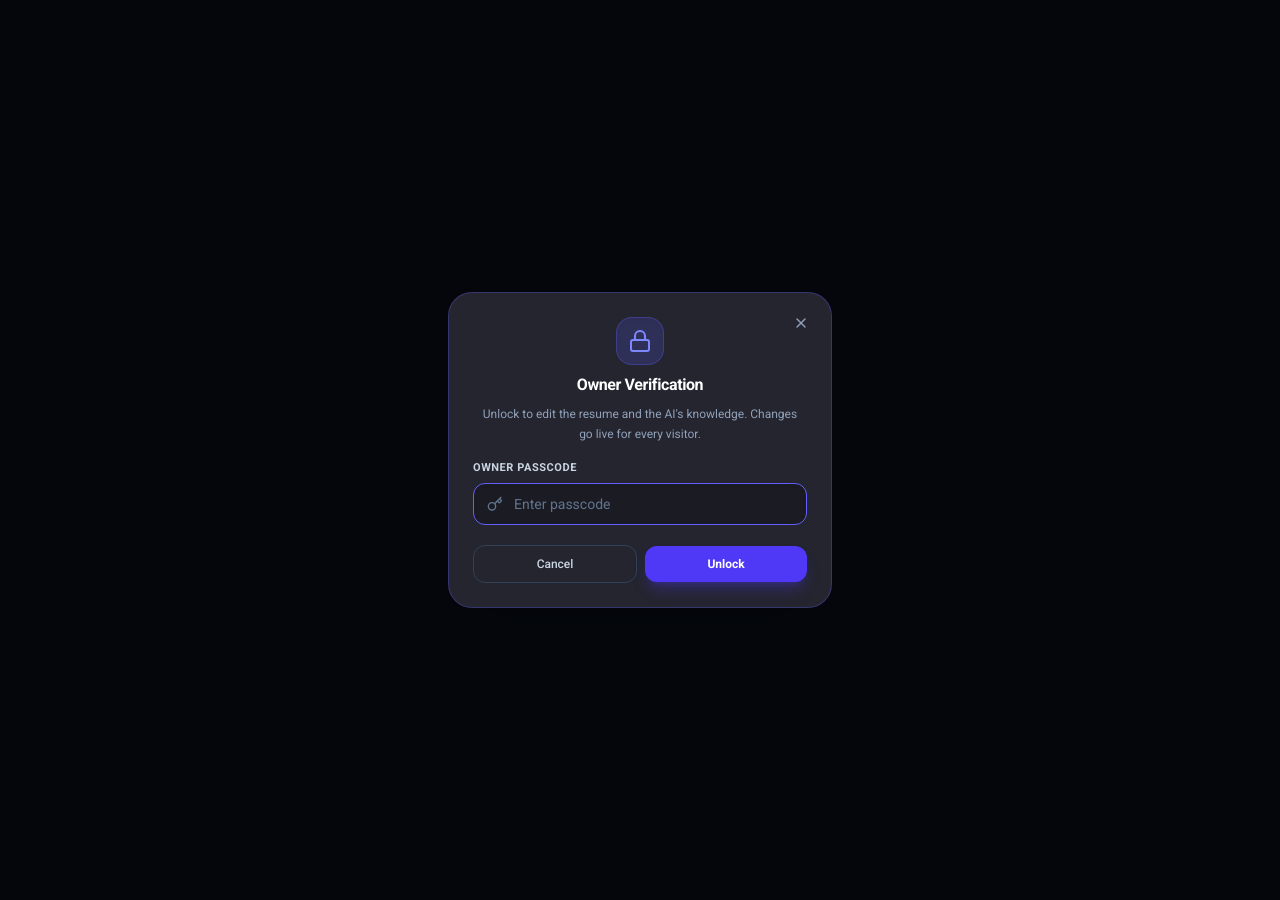
Test: AdminAuthModal Component › shows the server error on an incorrect passcode
Type "wrongpass" into the password field with placeholder "Enter passcode" at (640, 504), box [473, 483, 807, 525]
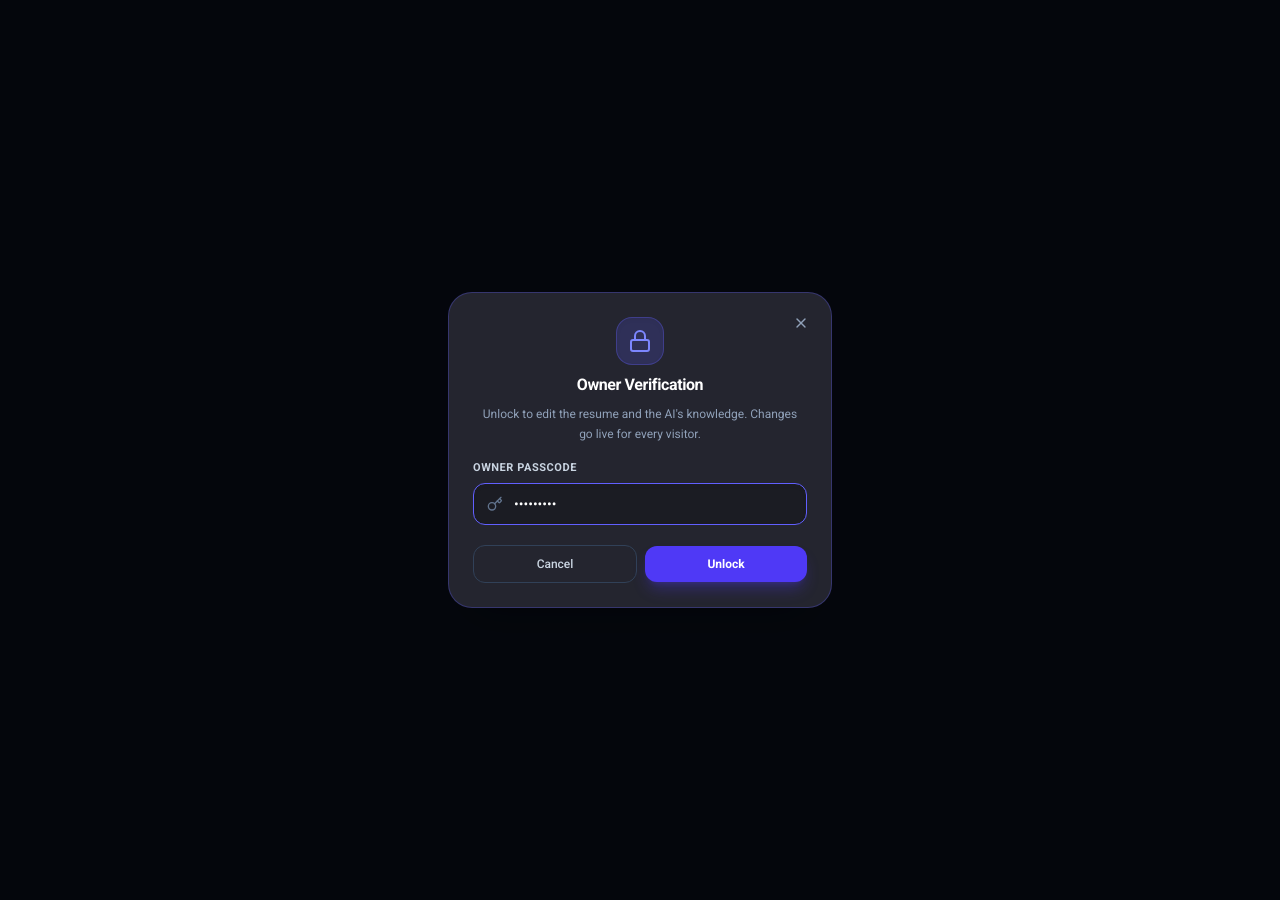
Click the button "Unlock" at (726, 564), box [645, 546, 807, 582]
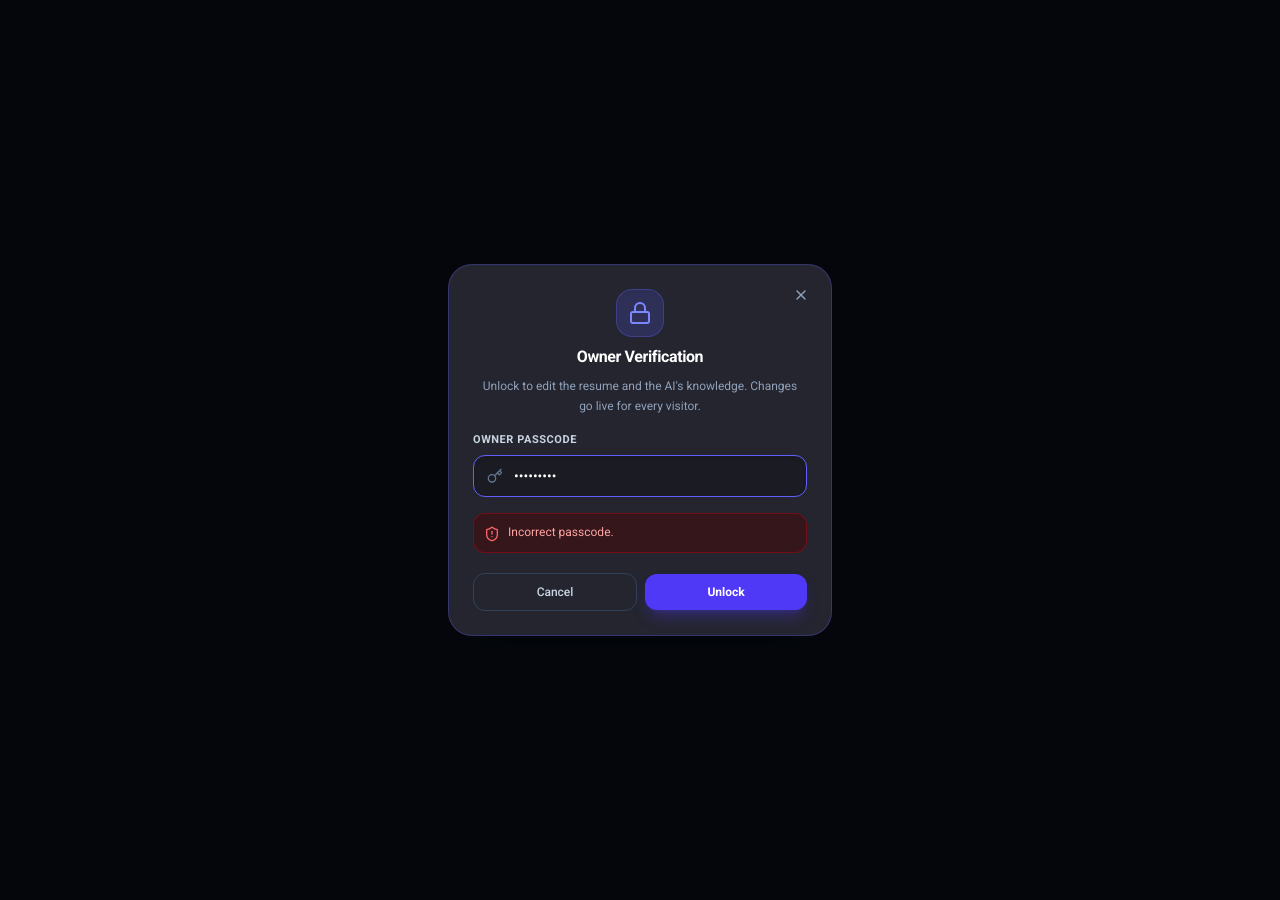
Now the text "Incorrect passcode." is shown, box [508, 524, 614, 540]
